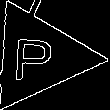P_N: (16, 30, 61, 83)
